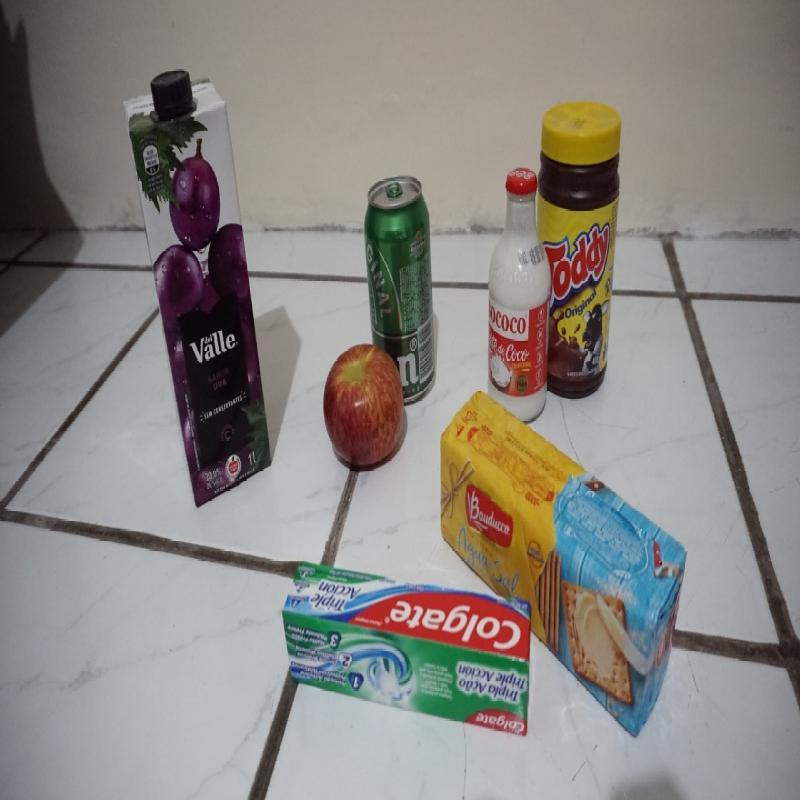Apple: (322, 342, 407, 471)
Beer can: (363, 170, 434, 404)
Chocolate Powder: (538, 99, 622, 401)
Coconut Milk: (489, 167, 552, 425)
Cracker: (441, 389, 687, 734)
Toothpaste: (283, 559, 532, 741)
